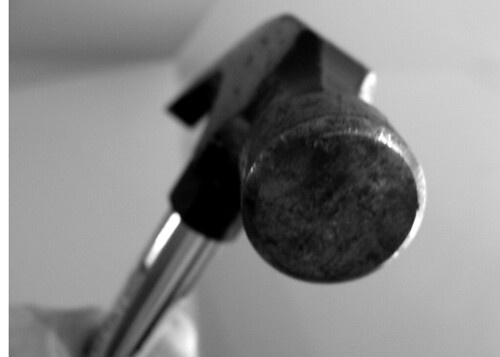hammer: (91, 11, 436, 356)
